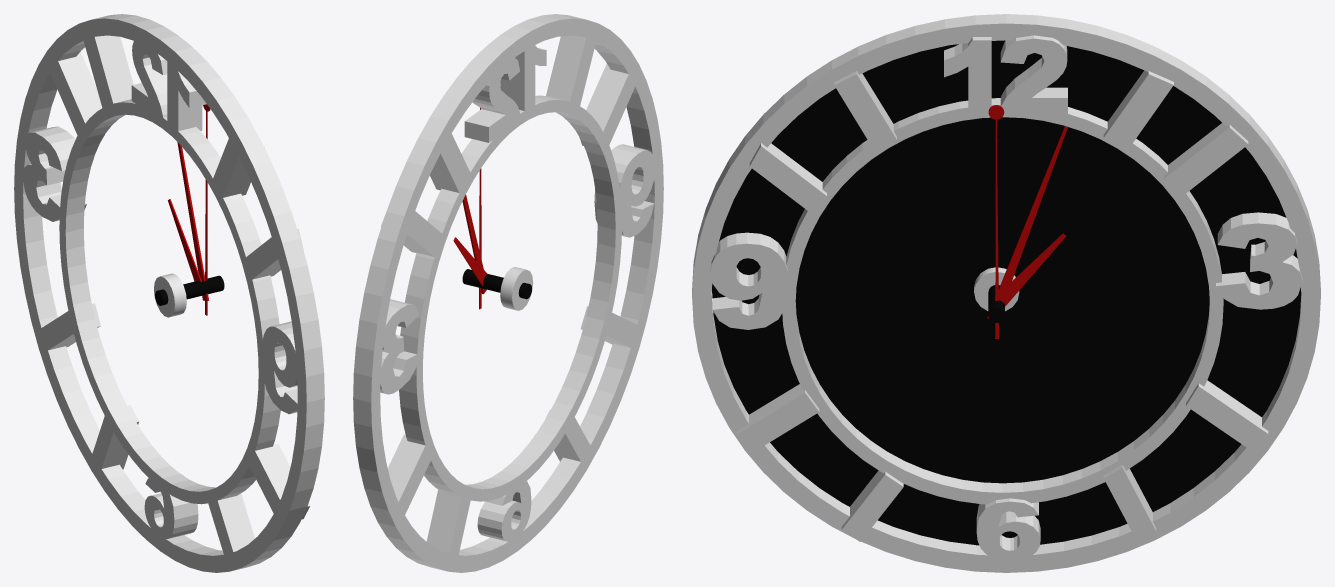
File: м_часы.fbx
The picture shows the model from 3 angles, left to right: view 1: azimuth 30°, elevation 25°; view 2: azimuth 150°, elevation 25°; view 3: azimuth 270°, elevation 25°; orthographic projection. The views are drawn at different scales.
Visible parts, largest first — view 1: циферблат, Cylinder, Cylinder_1, Minuten, Stunden, Sekunden; view 2: циферблат, Cylinder, Cylinder_1, Minuten, Stunden; view 3: Disc, циферблат, Minuten, Cylinder, Sekunden, Stunden.
Part boxes in pixels (left/top/right/bottom): циферблат: left=14, top=14, right=324, bottom=572; Cylinder: left=154, top=273, right=186, bottom=317; Cylinder_1: left=155, top=275, right=224, bottom=305; Minuten: left=177, top=142, right=208, bottom=300; Stunden: left=168, top=199, right=201, bottom=281; Sekunden: left=203, top=104, right=210, bottom=315; циферблат: left=353, top=14, right=663, bottom=572; Cylinder: left=500, top=267, right=533, bottom=310; Cylinder_1: left=462, top=269, right=531, bottom=299; Minuten: left=462, top=194, right=486, bottom=294; Stunden: left=453, top=237, right=487, bottom=289; Disc: left=712, top=40, right=1301, bottom=545; циферблат: left=692, top=14, right=1320, bottom=572; Minuten: left=987, top=126, right=1067, bottom=318; Cylinder: left=974, top=267, right=1019, bottom=311; Sekunden: left=988, top=105, right=1004, bottom=338; Stunden: left=995, top=233, right=1066, bottom=306.
Size of the model in its own units: 10.24 by 81 by 84.
